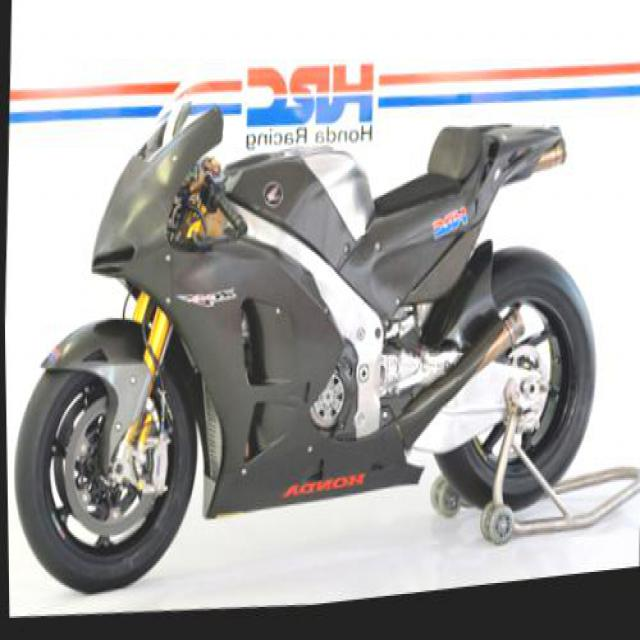HRC RCV 213: (2, 33, 610, 638)
